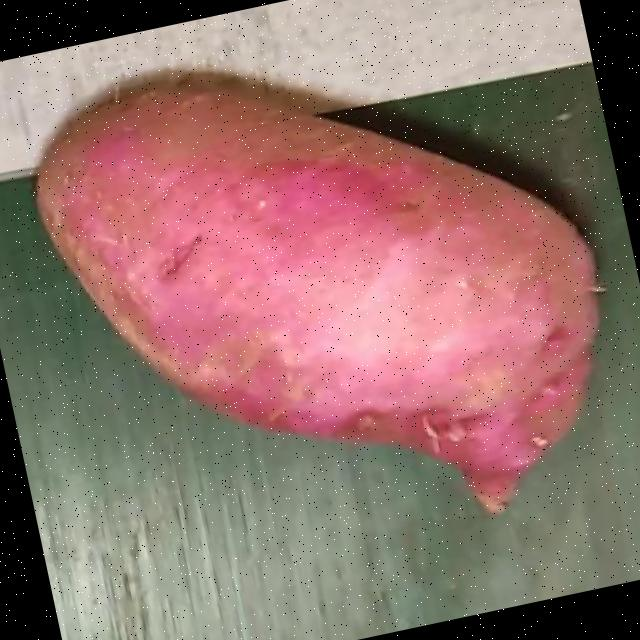Sweet Potato: (30, 68, 600, 515)
